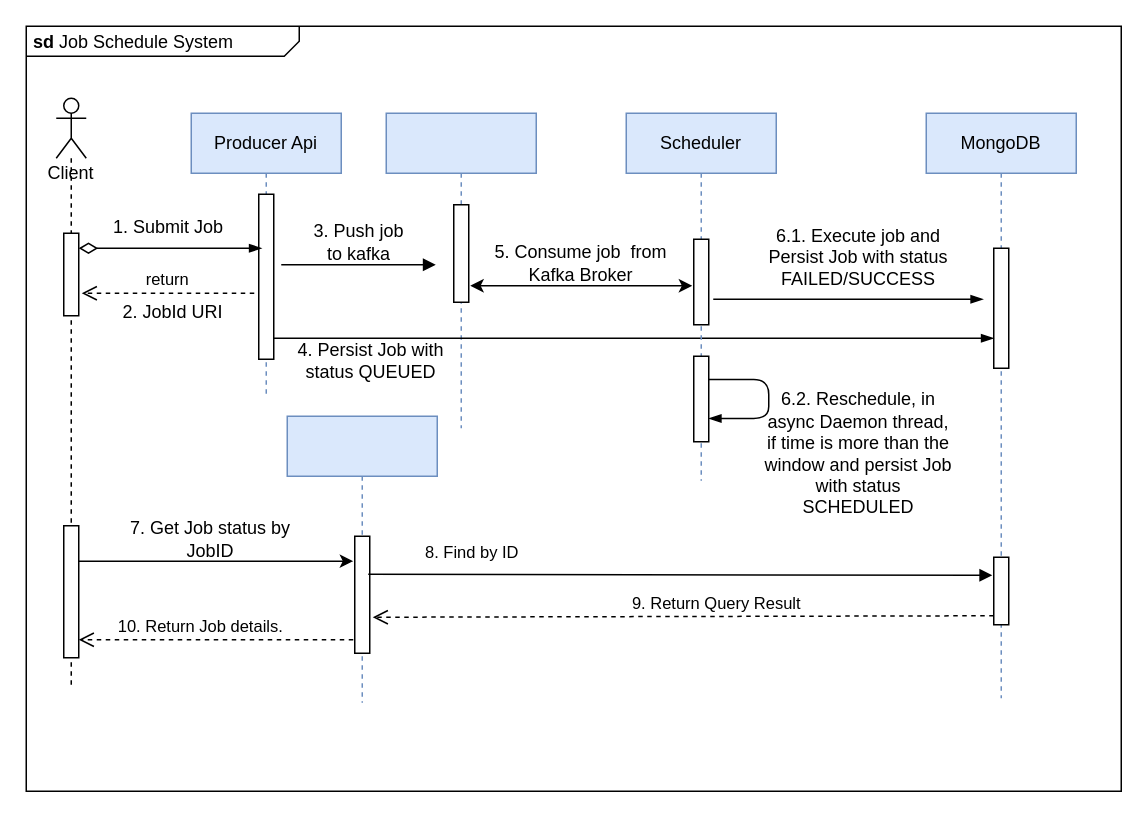
Image size: 1148x818. Some labels were removed from this diagram. The box of each missing label's shape, as (x1, y1, x2, y2) in pixels:
Dashboard Api: (286, 415, 437, 703)
Kafka Broker: (385, 112, 536, 428)
